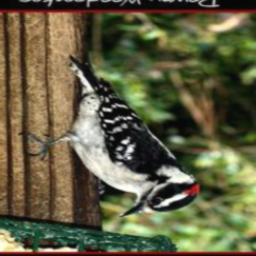Woodpecker: (14, 58, 202, 218)
